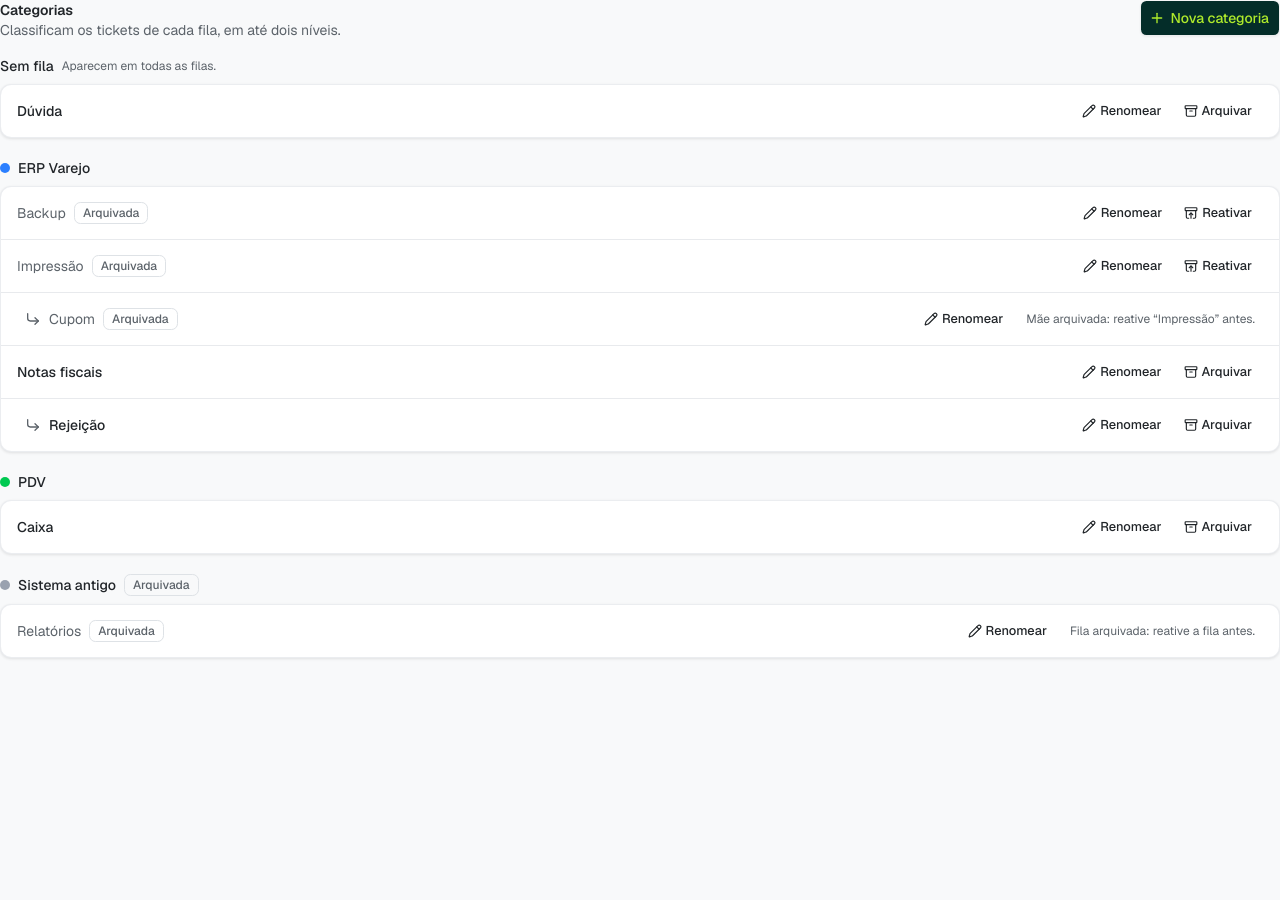
Test: TicketCategoriesManager — criar › a fila arquivada não é oferecida
Click the button "Nova categoria" at (1210, 18), box [1140, 0, 1279, 36]
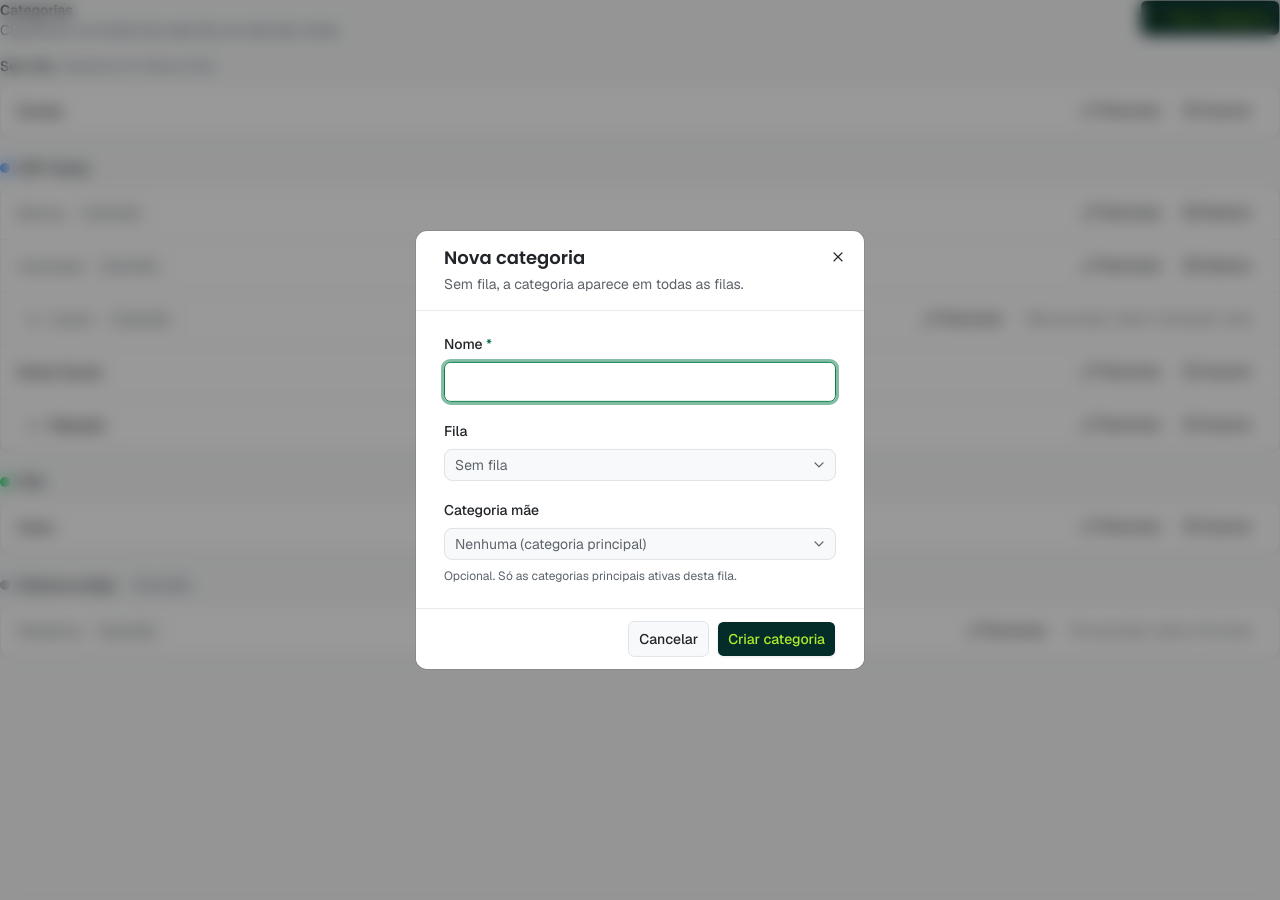
Click the dropdown labelled "fila" at (481, 465), box [444, 449, 836, 481]
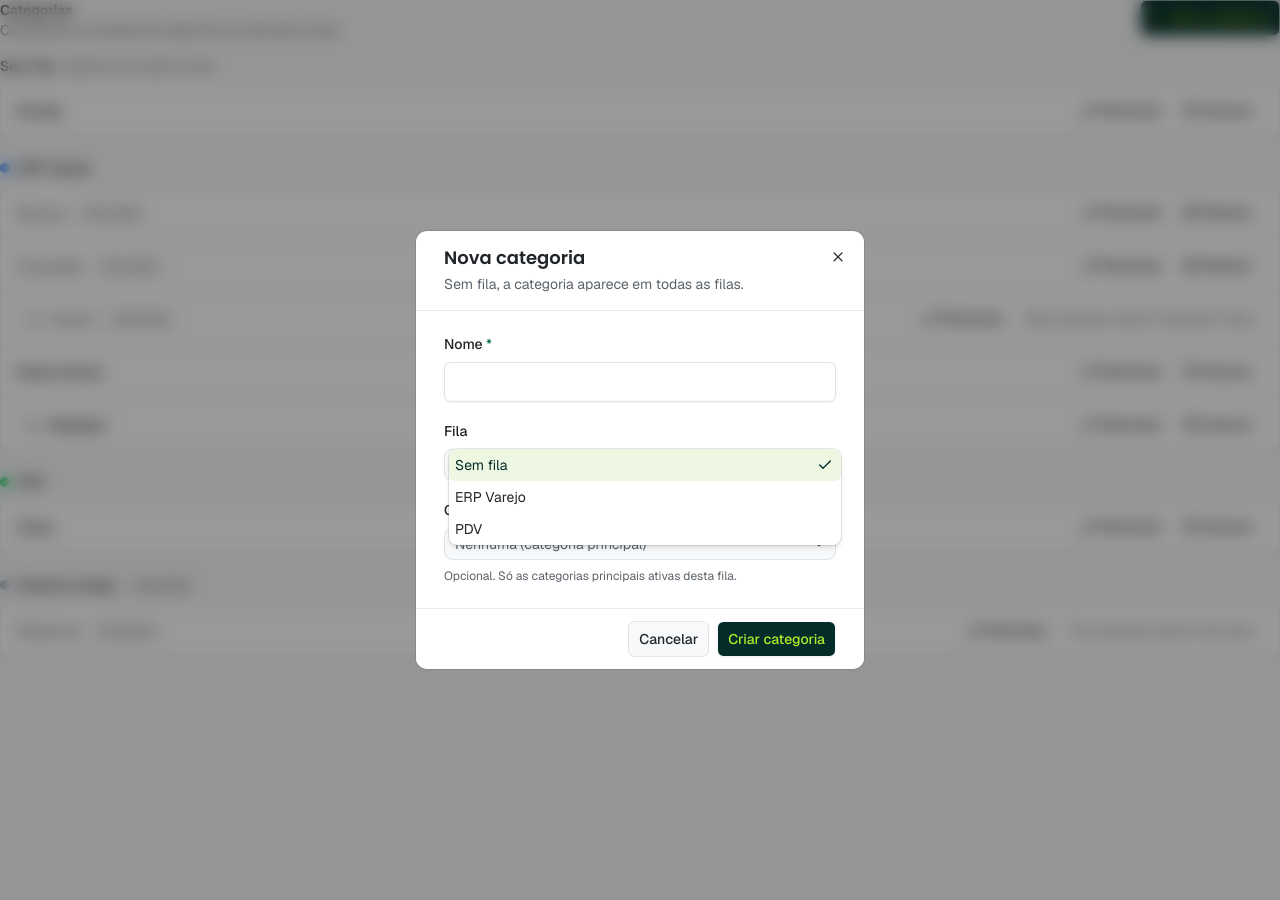
Now the options read "Sem fila", "ERP Varejo", "PDV", in this order, box [449, 449, 841, 481]; [455, 488, 526, 506]; [455, 520, 482, 538]
